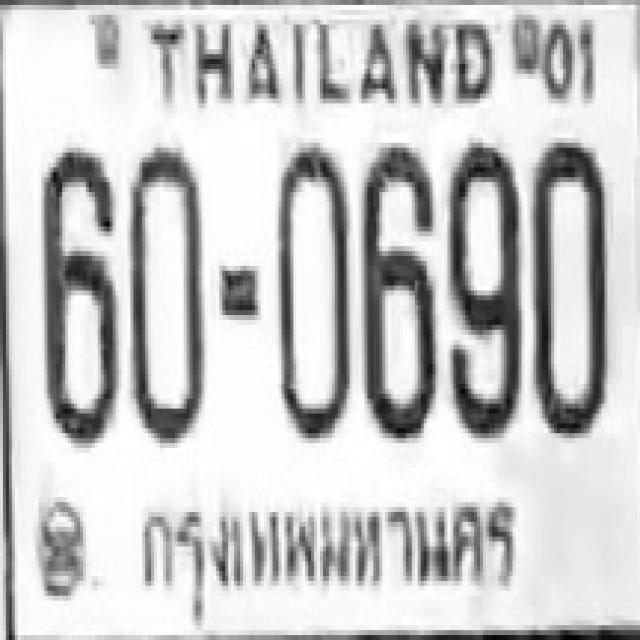0: (529, 138, 606, 433), (129, 140, 203, 441), (274, 140, 348, 436)
6: (358, 140, 436, 436), (42, 143, 118, 443)
9: (448, 135, 518, 436)
Bangkok: (123, 477, 536, 625)
